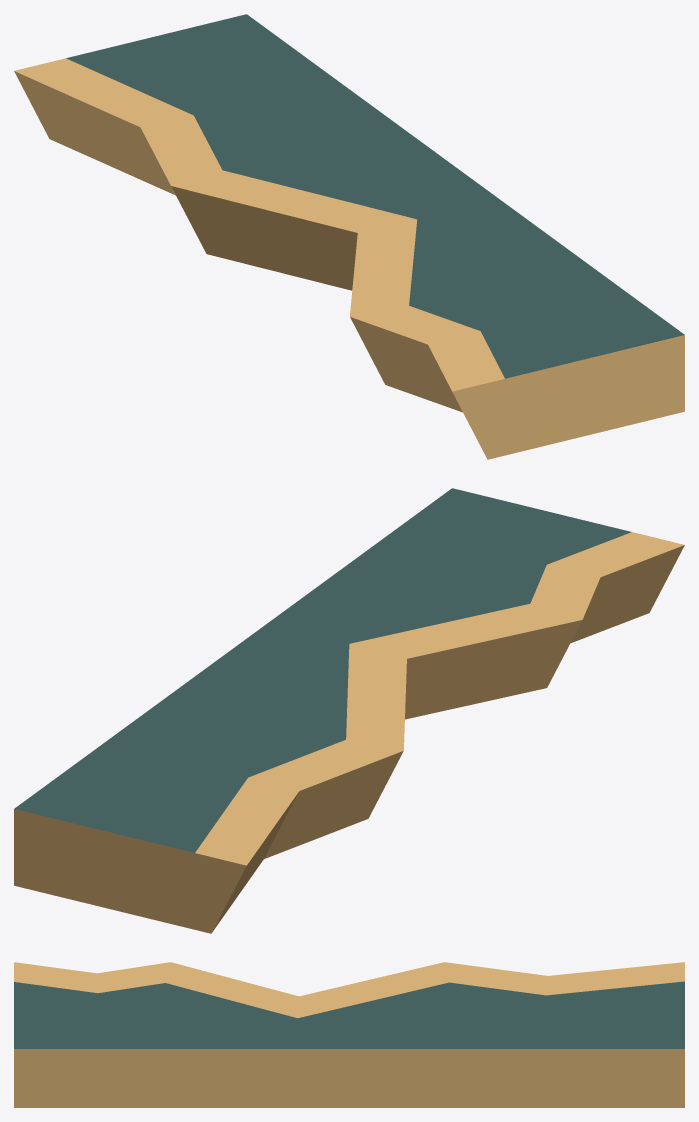
File: Brown_Cliff_Top_01_2.obj
3 views of the same model, one above another, from view 1: azimuth 30°, elevation 25°; view 2: azimuth 150°, elevation 25°; view 3: azimuth 270°, elevation 25° (orthographic). The views are drawn at different scales.
Parts seen in each view (by area): view 1: Mesh1_Brown_Cliff_Top_Model_Mesh1_Brown_Cliff_Top_Model_Leafs, Mesh1_Brown_Cliff_Top_Model_Mesh1_Brown_Cliff_Top_Model_Wood; view 2: Mesh1_Brown_Cliff_Top_Model_Mesh1_Brown_Cliff_Top_Model_Leafs, Mesh1_Brown_Cliff_Top_Model_Mesh1_Brown_Cliff_Top_Model_Wood; view 3: Mesh1_Brown_Cliff_Top_Model_Mesh1_Brown_Cliff_Top_Model_Wood, Mesh1_Brown_Cliff_Top_Model_Mesh1_Brown_Cliff_Top_Model_Leafs.
Part boxes in pixels (x1=…): Mesh1_Brown_Cliff_Top_Model_Mesh1_Brown_Cliff_Top_Model_Leafs: x1=66, y1=14, x2=684, y2=378; Mesh1_Brown_Cliff_Top_Model_Mesh1_Brown_Cliff_Top_Model_Wood: x1=14, y1=58, x2=684, y2=459; Mesh1_Brown_Cliff_Top_Model_Mesh1_Brown_Cliff_Top_Model_Leafs: x1=14, y1=488, x2=631, y2=852; Mesh1_Brown_Cliff_Top_Model_Mesh1_Brown_Cliff_Top_Model_Wood: x1=14, y1=532, x2=684, y2=933; Mesh1_Brown_Cliff_Top_Model_Mesh1_Brown_Cliff_Top_Model_Wood: x1=14, y1=962, x2=684, y2=1107; Mesh1_Brown_Cliff_Top_Model_Mesh1_Brown_Cliff_Top_Model_Leafs: x1=14, y1=981, x2=684, y2=1048.
Bounding box in the file's own units: 0.3066 × 0.0966 × 0.9997.
Materials: 2 (2 with a texture image).
